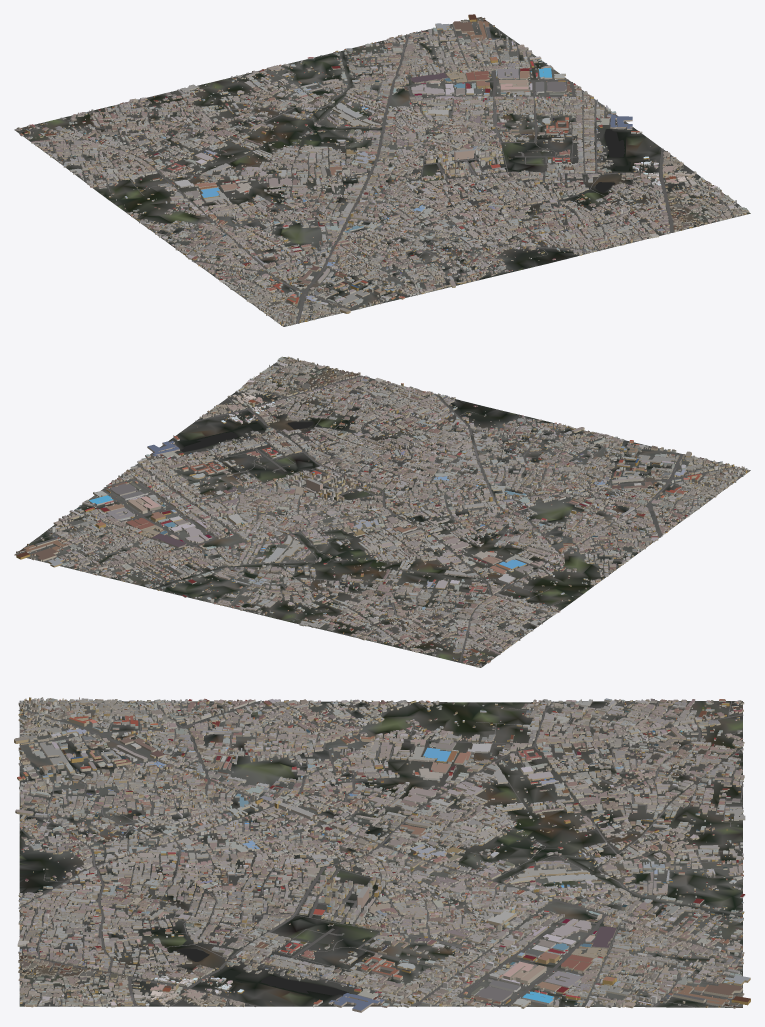
3 views of the same model, one above another, from view 1: azimuth 30°, elevation 25°; view 2: azimuth 150°, elevation 25°; view 3: azimuth 270°, elevation 25° (orthographic). The views are drawn at different scales.
Parts seen in each view (by area): view 1: buildings, ground, roads, water; view 2: buildings, ground, roads, water; view 3: buildings, ground, roads, water.
Part boxes in pixels (box(x1,y1,x2,y2)): buildings: box(15, 14, 749, 325); ground: box(14, 17, 750, 326); roads: box(18, 22, 744, 326); water: box(595, 129, 630, 192); buildings: box(16, 356, 749, 667); ground: box(14, 357, 750, 667); roads: box(30, 360, 744, 666); water: box(180, 422, 313, 452); buildings: box(14, 697, 750, 1012); ground: box(19, 700, 742, 1007); roads: box(18, 700, 743, 1007); water: box(177, 948, 348, 995).
Size of the model in its own units: 2863 by 53.83 by 2854.
